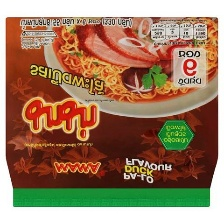snack: (0, 11, 224, 216)
